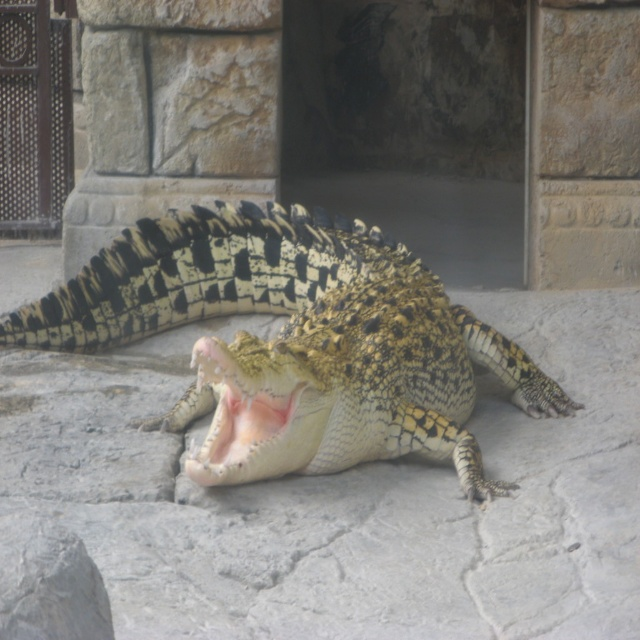Crocodile: (0, 199, 582, 503)
